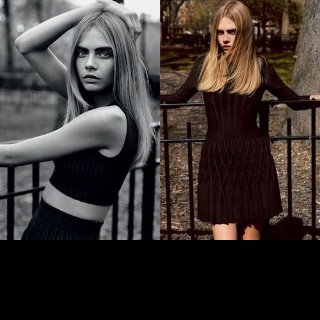without_mask: (75, 24, 113, 92), (216, 16, 236, 54)
